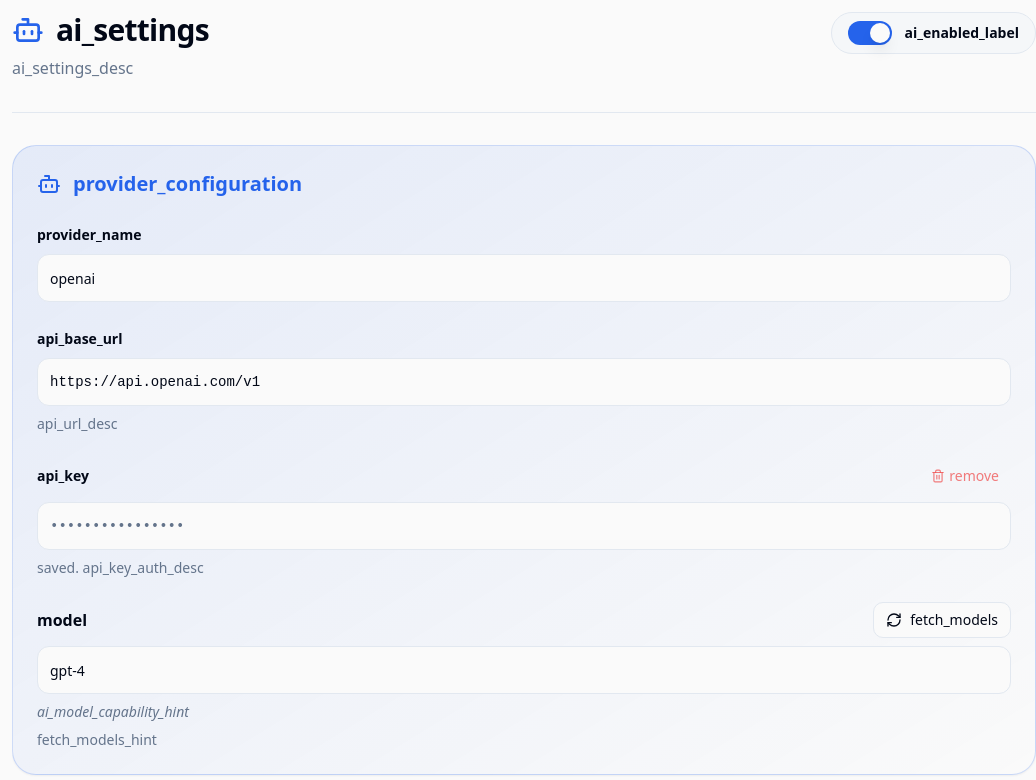
Test: AITab › clicking remove button hides remove button
Click the button "remove": (965, 476) x1=919 y1=458 x2=1011 y2=494
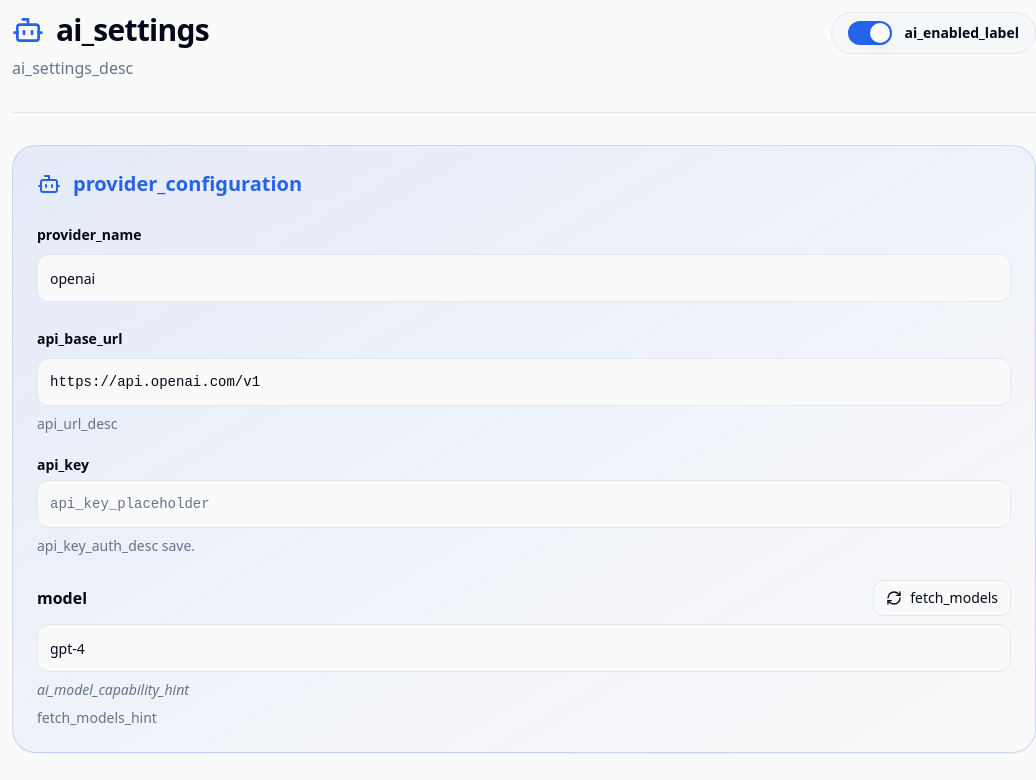
Result: the button "remove" is gone
